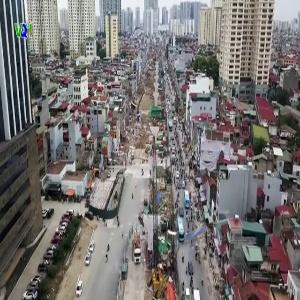drone: (173, 211, 215, 253)
